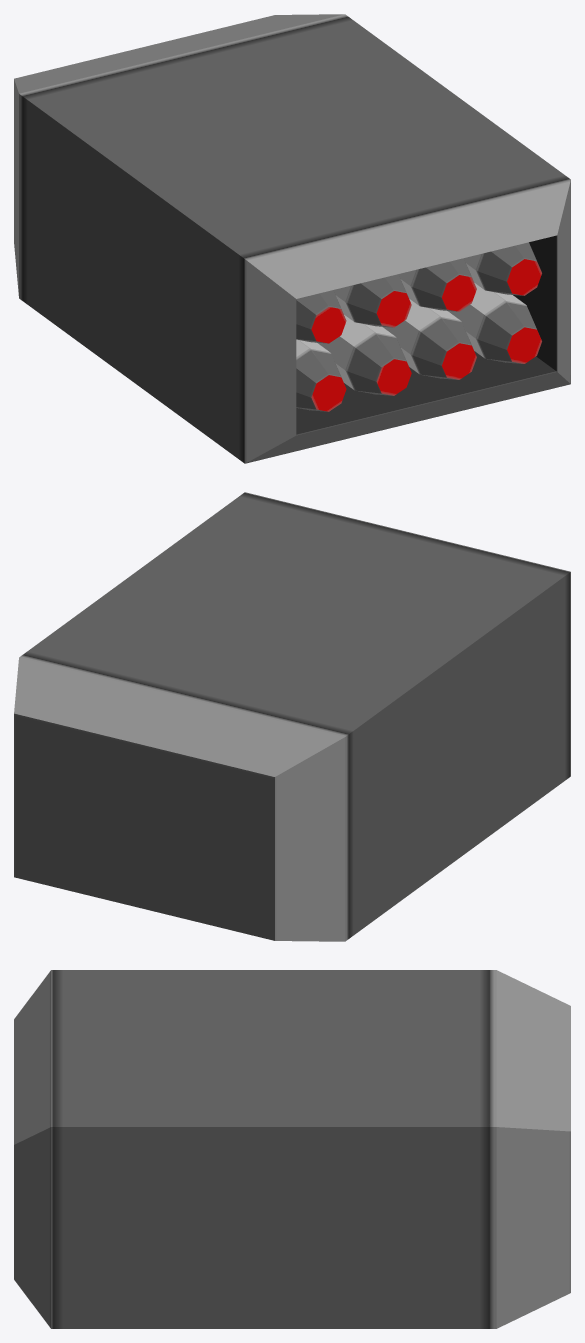
File: pod04.obj
3 views of the same model, one above another, from view 1: azimuth 30°, elevation 25°; view 2: azimuth 150°, elevation 25°; view 3: azimuth 270°, elevation 25° (orthographic).
Parts seen in each view (by area): view 1: pod04_Cube.003; view 2: pod04_Cube.003; view 3: pod04_Cube.003.
Boxes of the visible parts, x1,y1,x2,y2 form: pod04_Cube.003: [14, 14, 570, 463]; pod04_Cube.003: [14, 492, 570, 941]; pod04_Cube.003: [14, 970, 570, 1328].
Bounding box in the file's own units: 0.3 × 0.18 × 0.45.
1 material, 1 textured.
